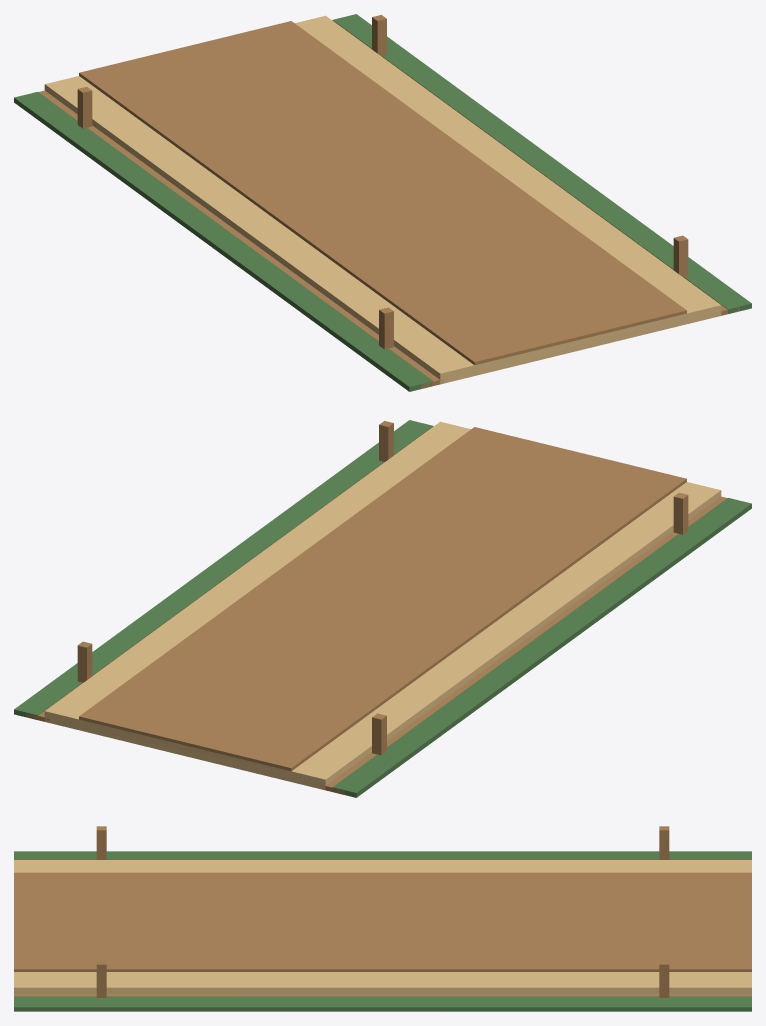
Rendered from Farm-Road.glb.
The picture shows the model from 3 angles, top to bottom: view 1: azimuth 30°, elevation 25°; view 2: azimuth 150°, elevation 25°; view 3: azimuth 270°, elevation 25°; orthographic projection. The views are drawn at different scales.
Parts seen in each view (by area): view 1: farm-road-static-farm-road-mixed-gravel, farm-road-static-farm-road-compacted-earth, farm-road-static-farm-road-ditch-grass, farm-road-static-farm-road-shallow-ditch, farm-road-static-farm-road-timber-markers; view 2: farm-road-static-farm-road-mixed-gravel, farm-road-static-farm-road-compacted-earth, farm-road-static-farm-road-ditch-grass, farm-road-static-farm-road-shallow-ditch, farm-road-static-farm-road-timber-markers; view 3: farm-road-static-farm-road-mixed-gravel, farm-road-static-farm-road-compacted-earth, farm-road-static-farm-road-ditch-grass, farm-road-static-farm-road-shallow-ditch, farm-road-static-farm-road-timber-markers.
Boxes of the visible parts, x1,y1,x2,y2 form: farm-road-static-farm-road-mixed-gravel: [79, 21, 686, 365]; farm-road-static-farm-road-compacted-earth: [44, 15, 721, 384]; farm-road-static-farm-road-ditch-grass: [14, 14, 751, 391]; farm-road-static-farm-road-shallow-ditch: [39, 20, 739, 388]; farm-road-static-farm-road-timber-markers: [77, 15, 688, 349]; farm-road-static-farm-road-mixed-gravel: [79, 427, 686, 771]; farm-road-static-farm-road-compacted-earth: [44, 421, 721, 790]; farm-road-static-farm-road-ditch-grass: [14, 420, 751, 797]; farm-road-static-farm-road-shallow-ditch: [26, 426, 726, 794]; farm-road-static-farm-road-timber-markers: [77, 421, 688, 755]; farm-road-static-farm-road-mixed-gravel: [14, 872, 751, 971]; farm-road-static-farm-road-compacted-earth: [14, 860, 751, 993]; farm-road-static-farm-road-ditch-grass: [14, 851, 751, 1011]; farm-road-static-farm-road-shallow-ditch: [14, 993, 751, 996]; farm-road-static-farm-road-timber-markers: [96, 826, 669, 997].
Bounding box in the file's own units: 4 × 0.46 × 8.
